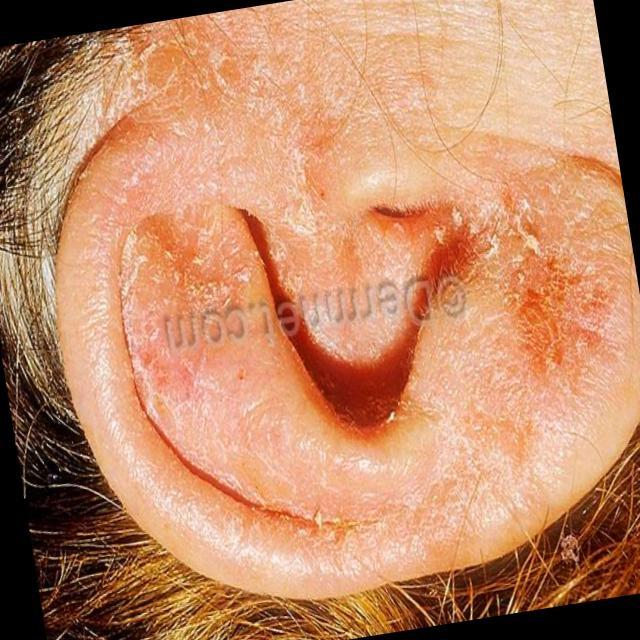Eczema: (94, 28, 612, 528)
